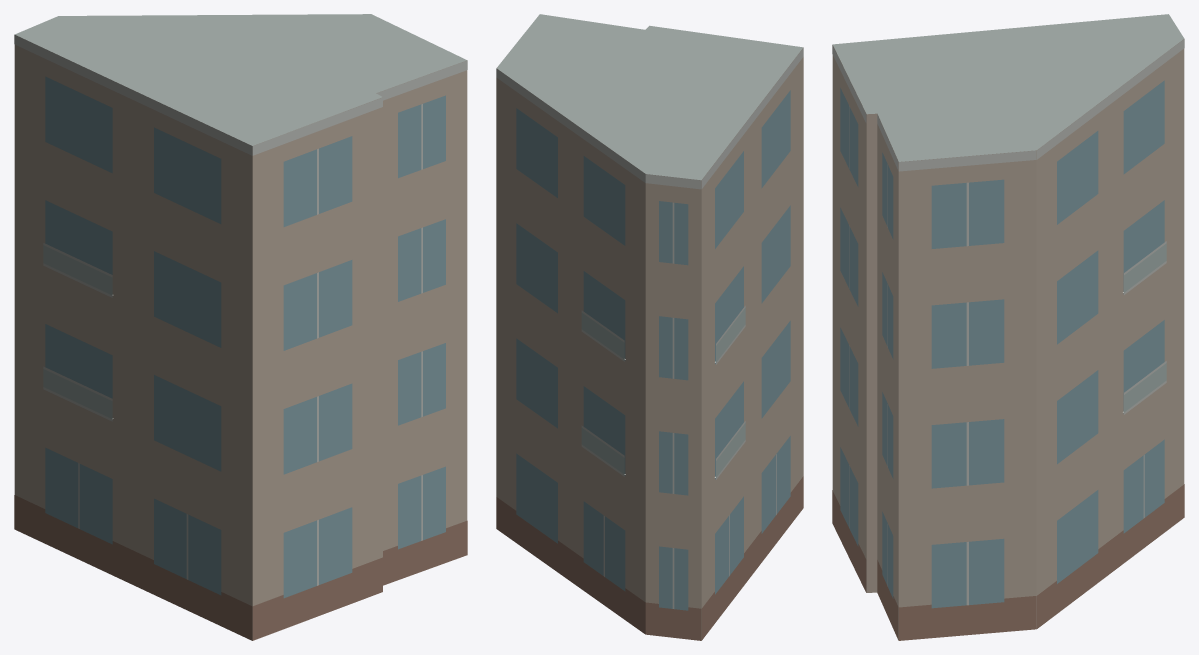
The model's file is survey-upis-32887785.glb.
3 renders of one model, left to right at view 1: azimuth 30°, elevation 25°; view 2: azimuth 150°, elevation 25°; view 3: azimuth 270°, elevation 25°, orthographic. The views are drawn at different scales.
Parts seen in each view (by area): view 1: survey-upis-32887785.tmp; view 2: survey-upis-32887785.tmp; view 3: survey-upis-32887785.tmp.
Part boxes in pixels (x1,y1,x2,y2): survey-upis-32887785.tmp: (14, 14, 467, 640); survey-upis-32887785.tmp: (496, 14, 803, 640); survey-upis-32887785.tmp: (832, 14, 1184, 640).
Bounding box in the file's own units: 8.09 × 12.2 × 8.14.
